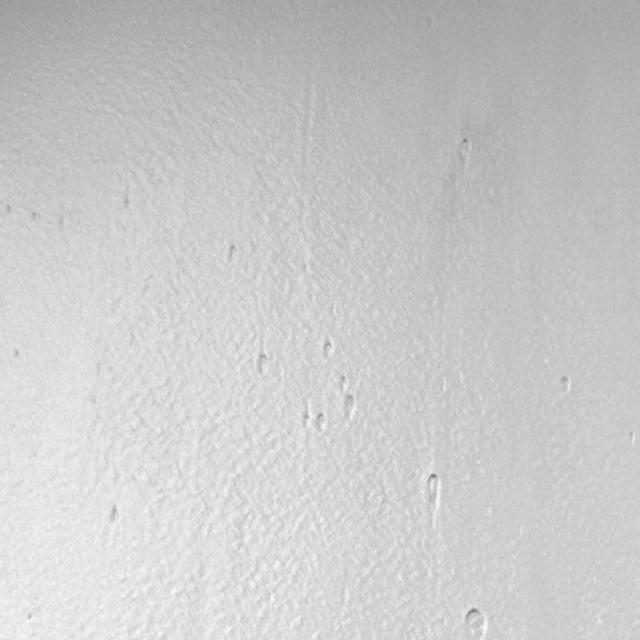pin holes: (419, 472, 444, 511), (462, 604, 489, 638), (342, 392, 360, 421), (558, 373, 578, 398), (254, 352, 272, 378), (107, 503, 126, 526), (319, 338, 337, 362), (224, 242, 242, 266), (312, 411, 329, 436), (301, 409, 315, 432), (460, 136, 474, 158), (337, 374, 352, 394), (12, 346, 25, 362), (29, 211, 42, 227), (626, 432, 638, 449), (4, 202, 16, 216), (124, 192, 131, 208)
